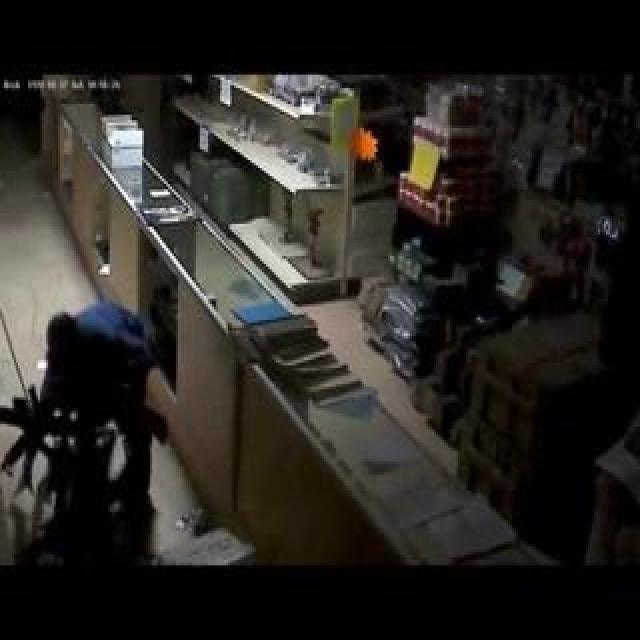thief: (15, 322, 168, 465)
